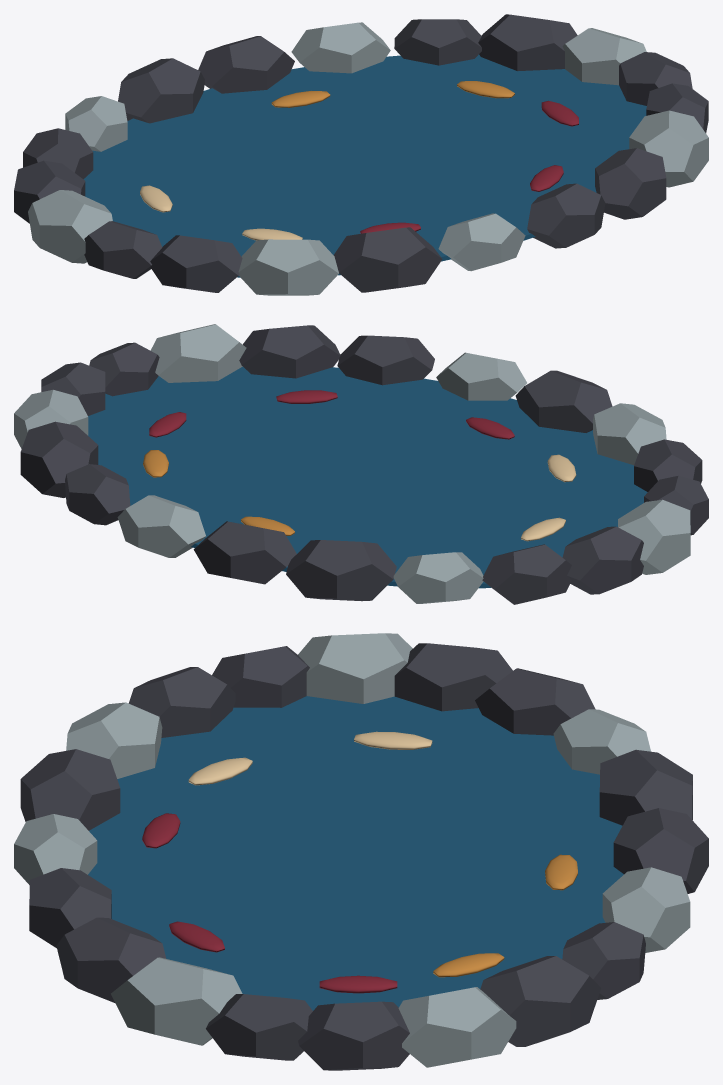
Rendered from mia-koi_pond.glb.
3 views of the same model, one above another, from view 1: azimuth 30°, elevation 25°; view 2: azimuth 150°, elevation 25°; view 3: azimuth 270°, elevation 25° (orthographic). The views are drawn at different scales.
Parts seen in each view (by area): view 1: Body_pond-water, Body_stone, Body_steel, Body_velvet, Body_brass, Body_ivory; view 2: Body_pond-water, Body_stone, Body_steel, Body_velvet, Body_ivory, Body_brass; view 3: Body_pond-water, Body_stone, Body_steel, Body_velvet, Body_ivory, Body_brass.
Part boxes in pixels (x1,y1,x2,y2): Body_pond-water: (83,54,646,277); Body_stone: (14,14,708,292); Body_steel: (28,22,708,295); Body_velvet: (360,100,578,233); Body_brass: (271,81,514,107); Body_ivory: (140,185,302,240); Body_pond-water: (88,366,647,588); Body_stone: (20,325,708,604); Body_steel: (14,324,690,603); Body_velvet: (149,390,514,439); Body_ivory: (521,454,576,541); Body_brass: (143,450,294,535); Body_pond-water: (88,696,623,1010); Body_stone: (20,643,708,1070); Body_steel: (14,633,690,1067); Body_velvet: (142,813,397,993); Body_ivory: (188,731,432,785); Body_brass: (433,854,577,977).
Bounding box in the file's own units: 3.49 × 0.3069 × 2.54.
